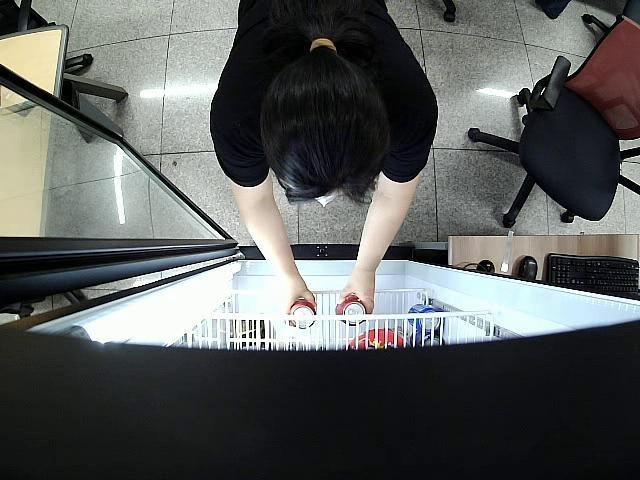11_cocaColaZero: (334, 292, 366, 325), (286, 297, 316, 329)
